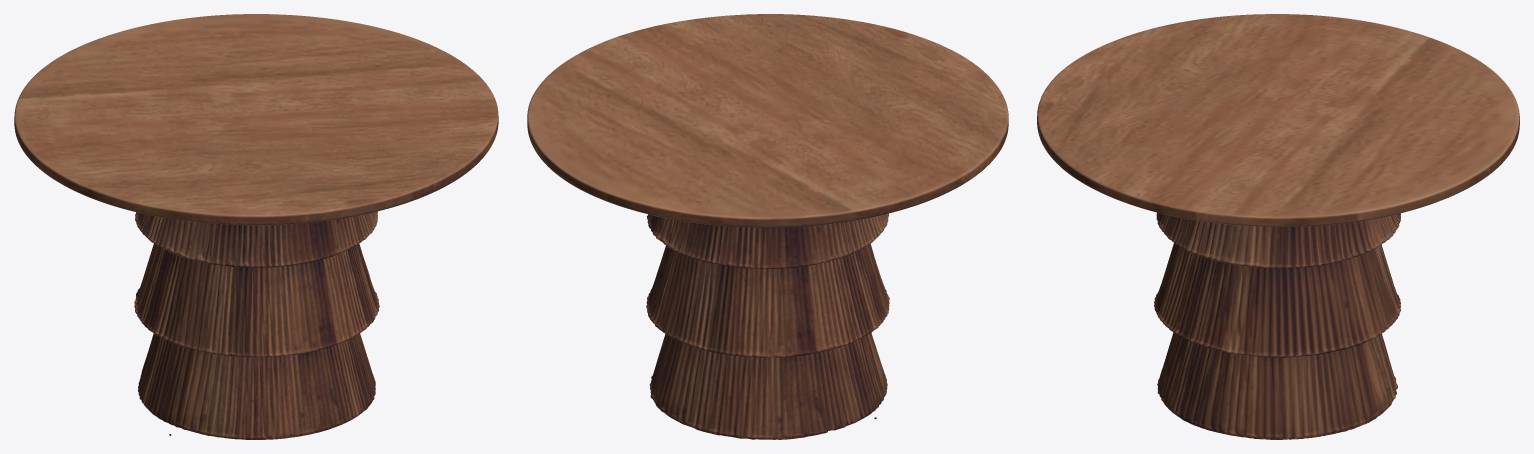
3 renders of one model, left to right at view 1: azimuth 30°, elevation 25°; view 2: azimuth 150°, elevation 25°; view 3: azimuth 270°, elevation 25°, orthographic.
Parts seen in each view (by area): view 1: world; view 2: world; view 3: world.
Part boxes in pixels (<box>): world: <box>14,14,498,439</box>; world: <box>527,14,1008,439</box>; world: <box>1037,14,1519,439</box>.
Bounding box in the file's own units: 0.9999 × 0.6618 × 1.
Materials: 1 (1 with a texture image).
